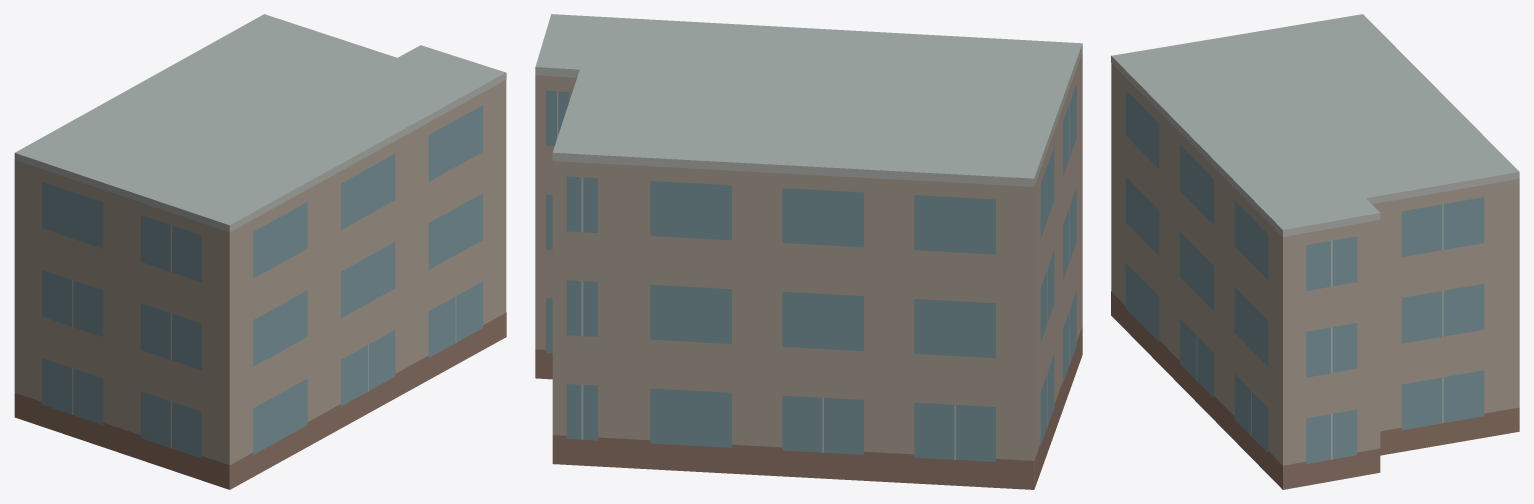
Rendered from survey-upis-32851330.glb.
The picture shows the model from 3 angles, left to right: view 1: azimuth 30°, elevation 25°; view 2: azimuth 150°, elevation 25°; view 3: azimuth 270°, elevation 25°; orthographic projection. The views are drawn at different scales.
Visible parts, largest first — view 1: survey-upis-32851330.tmp; view 2: survey-upis-32851330.tmp; view 3: survey-upis-32851330.tmp.
Part boxes in pixels (x1,y1,x2,y2): survey-upis-32851330.tmp: (14, 14, 506, 489); survey-upis-32851330.tmp: (535, 14, 1082, 489); survey-upis-32851330.tmp: (1111, 14, 1519, 489).
Bounding box in the file's own units: 16.34 × 9.15 × 13.05.
